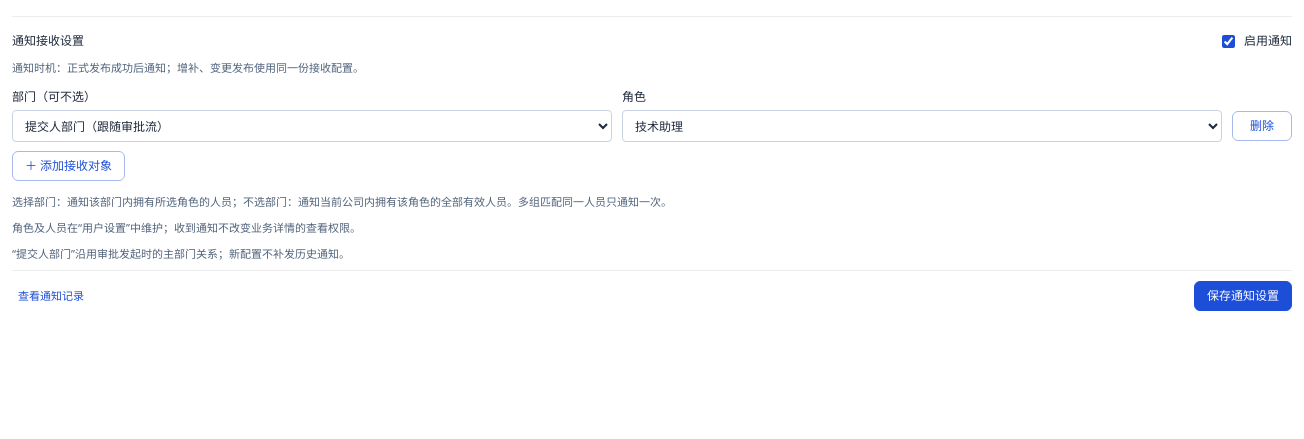
department and role workflow notifications › saves submitter, fixed department and all-company role recipients together through a separate API
The image size is (1304, 439).
Click the button "＋ 添加接收对象" at (69, 166), box top-left (12, 151), bottom-right (125, 181)
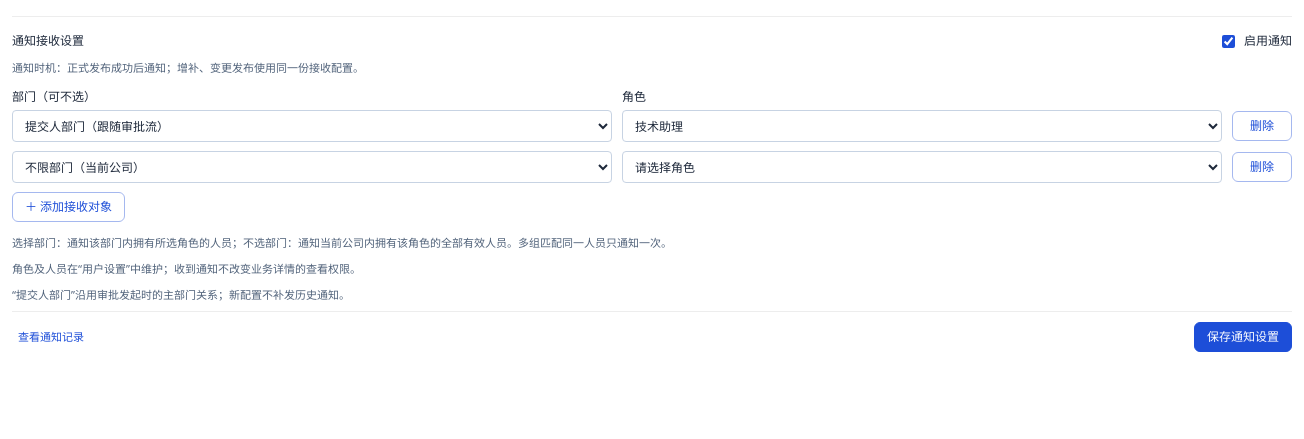
Now the dropdown named "接收对象2角色" is enabled
Select "技术助理" in the dropdown named "接收对象2角色" at (922, 167), box top-left (622, 151), bottom-right (1222, 183)
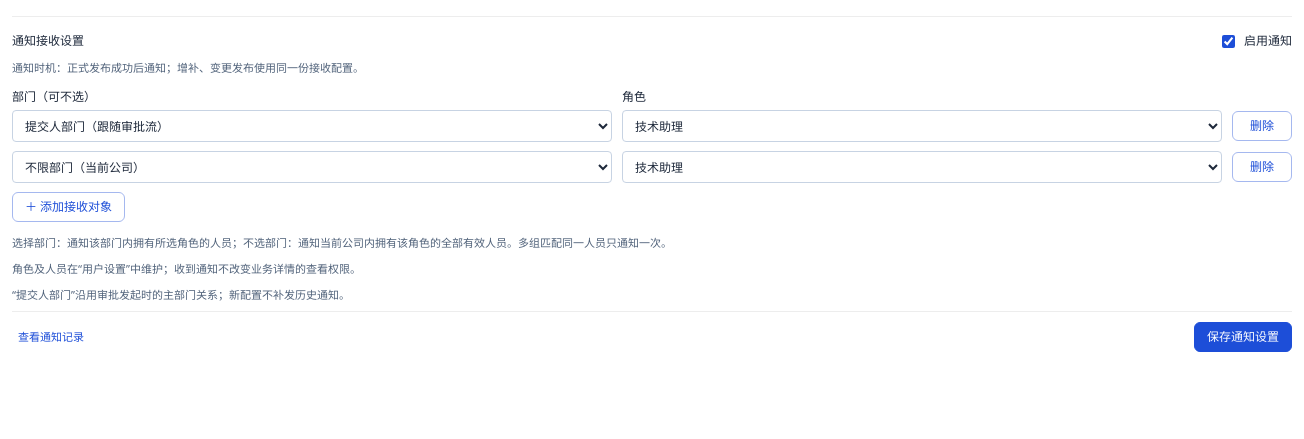
Click the button "＋ 添加接收对象" at (69, 207), box top-left (12, 192), bottom-right (125, 222)
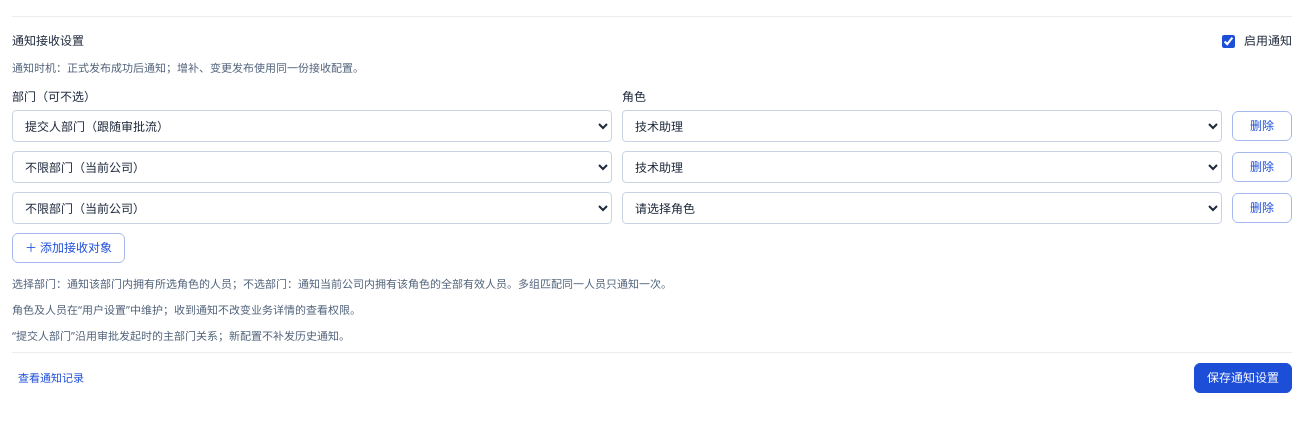
Select "供应链" in the dropdown named "接收对象3部门" at (312, 208), box top-left (12, 192), bottom-right (612, 224)
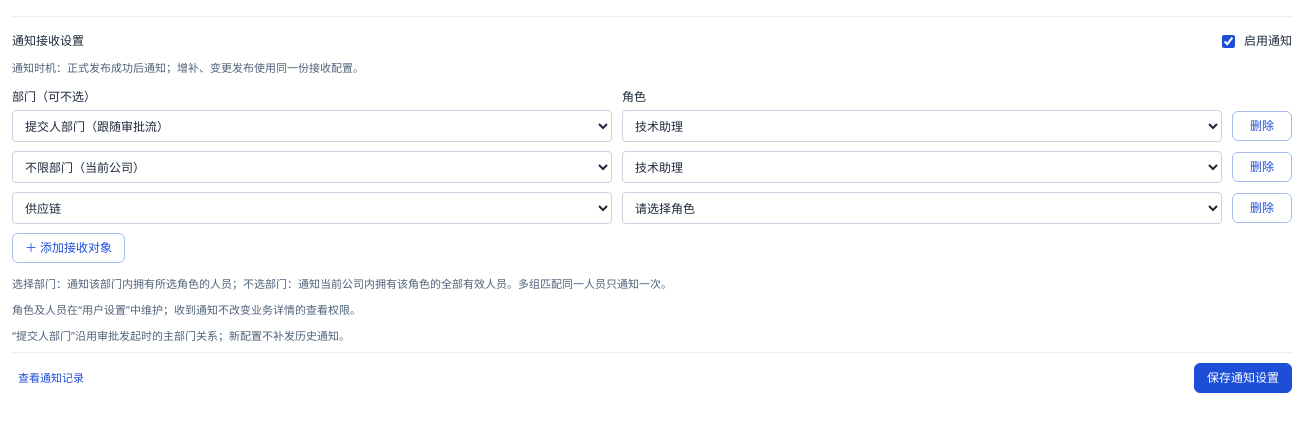
Select "供应链" in the dropdown named "接收对象3角色" at (922, 208), box top-left (622, 192), bottom-right (1222, 224)
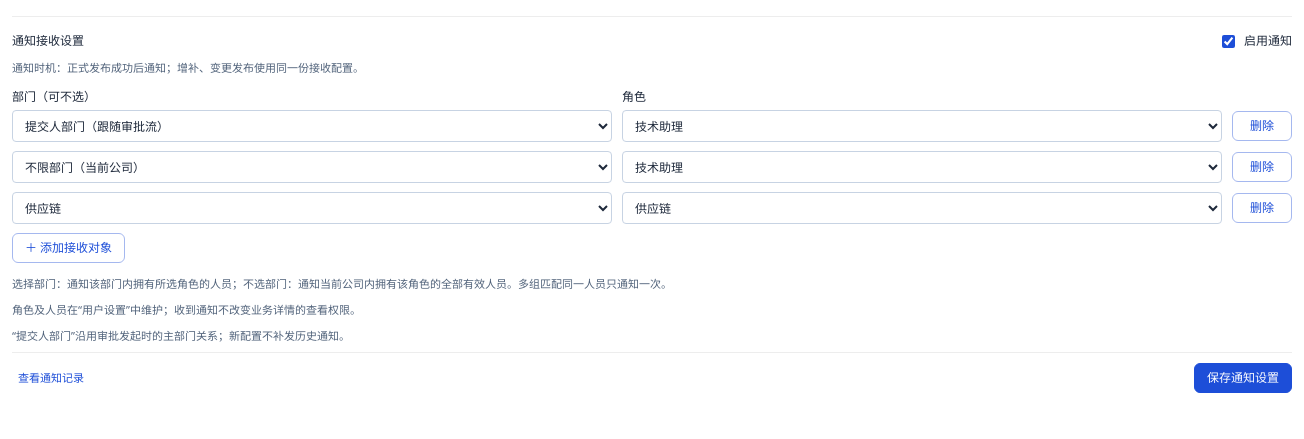
Click the button "保存通知设置" at (1243, 378), box top-left (1194, 363), bottom-right (1292, 393)
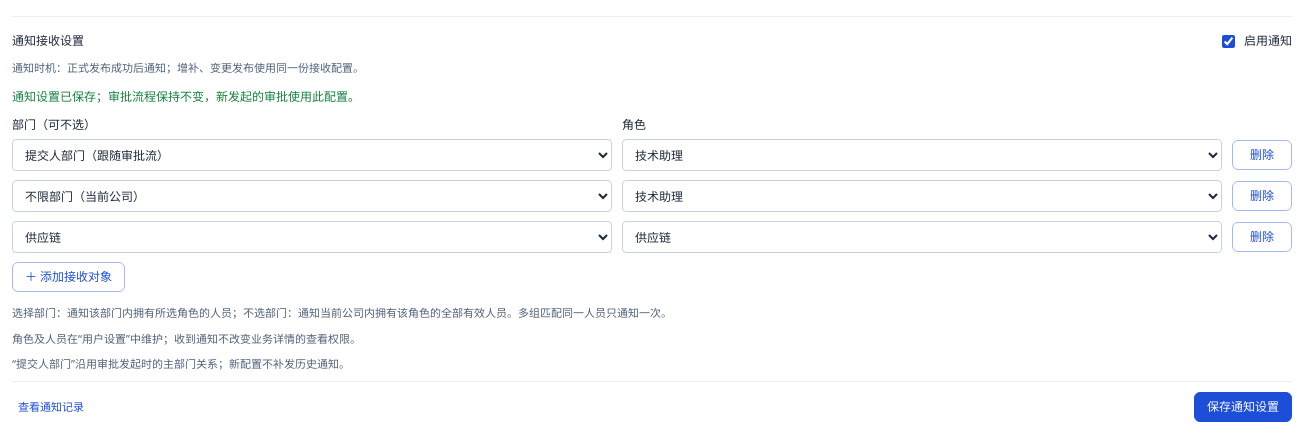
Now the text "审批流程保持不变" is shown, box top-left (12, 88), bottom-right (360, 105)
